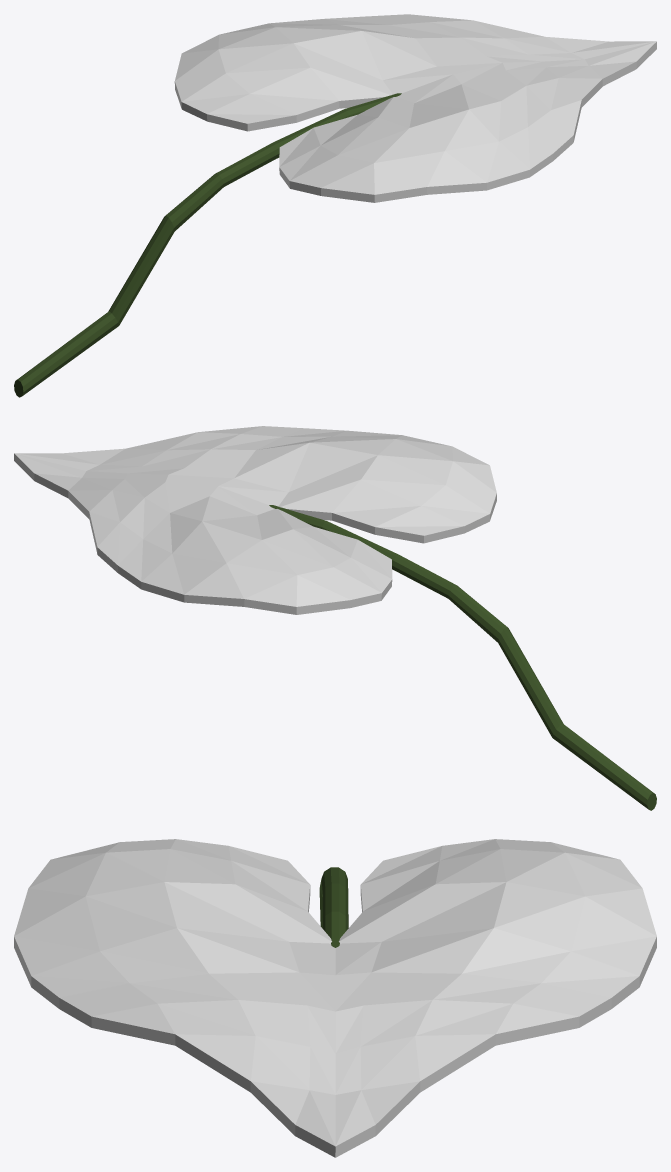
File: leaf2.fbx
The picture shows the model from 3 angles, top to bottom: view 1: azimuth 30°, elevation 25°; view 2: azimuth 150°, elevation 25°; view 3: azimuth 270°, elevation 25°; orthographic projection. The views are drawn at different scales.
Parts seen in each view (by area): view 1: Plane; view 2: Plane; view 3: Plane.
Boxes of the visible parts, left/top/right/bottom form: Plane: left=14, top=14, right=656, bottom=397; Plane: left=14, top=426, right=656, bottom=810; Plane: left=14, top=839, right=656, bottom=1157.
Size of the model in its own units: 431 by 148 by 255.
